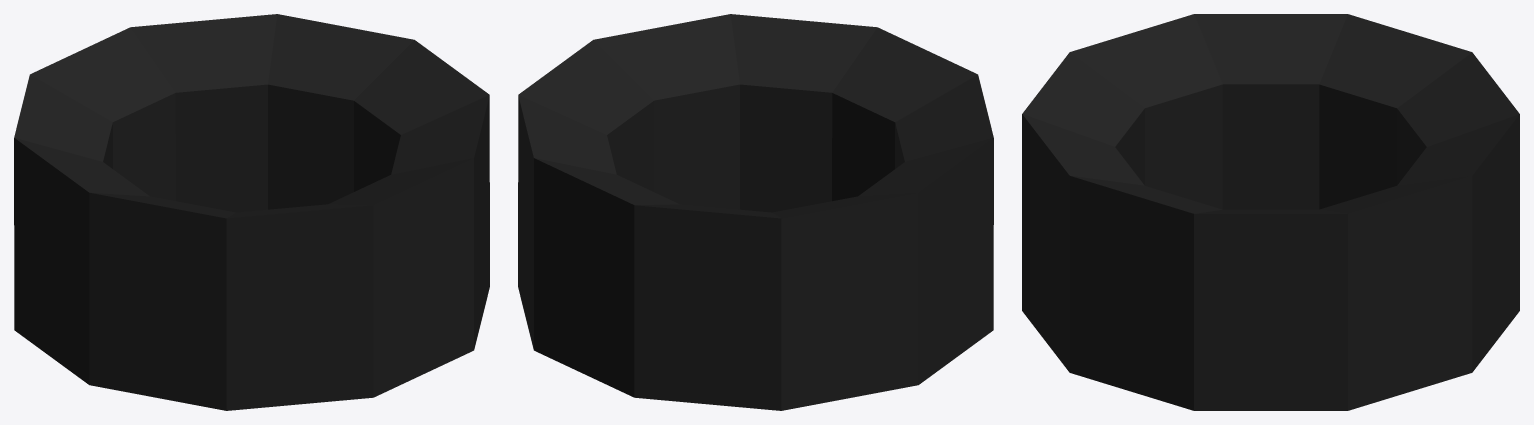
File: tire.fbx
3 renders of one model, left to right at view 1: azimuth 30°, elevation 25°; view 2: azimuth 150°, elevation 25°; view 3: azimuth 270°, elevation 25°, orthographic. The views are drawn at different scales.
Visible parts, largest first — view 1: Tire; view 2: Tire; view 3: Tire.
Part boxes in pixels (box(x1,y1,x2,y2)): Tire: box(14, 14, 489, 410); Tire: box(518, 14, 993, 410); Tire: box(1022, 14, 1519, 410).
Size of the model in its own units: 61.75 by 28.38 by 64.92.
